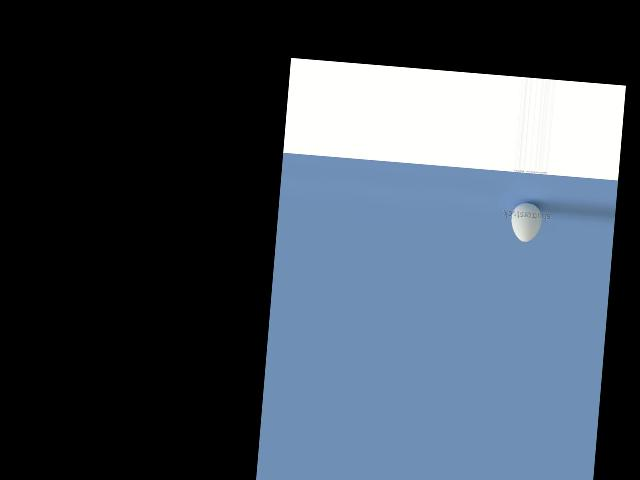egg: (509, 201, 542, 243)
